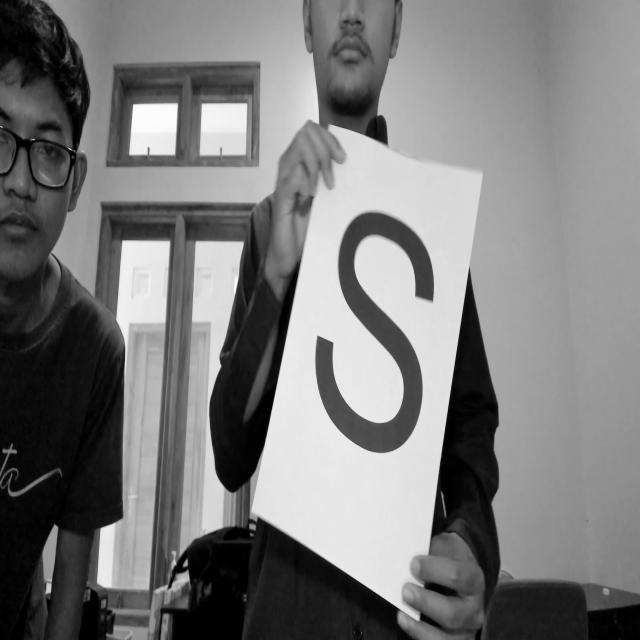s: (312, 204, 438, 476)
